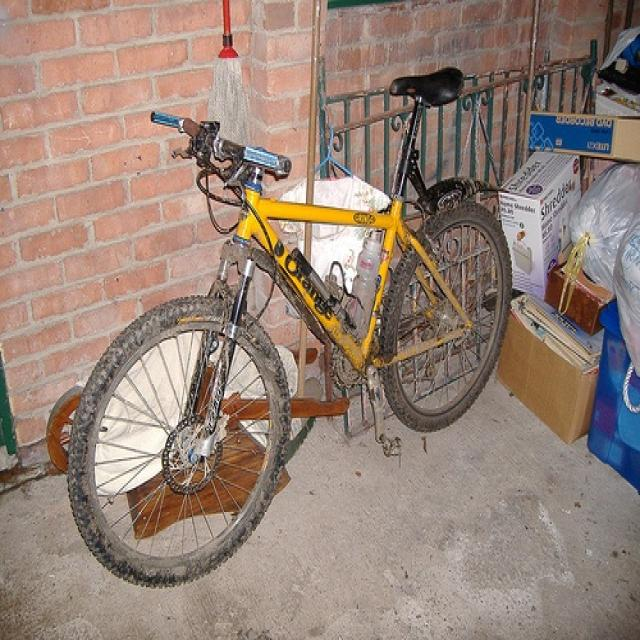bicycle: (66, 65, 514, 585)
